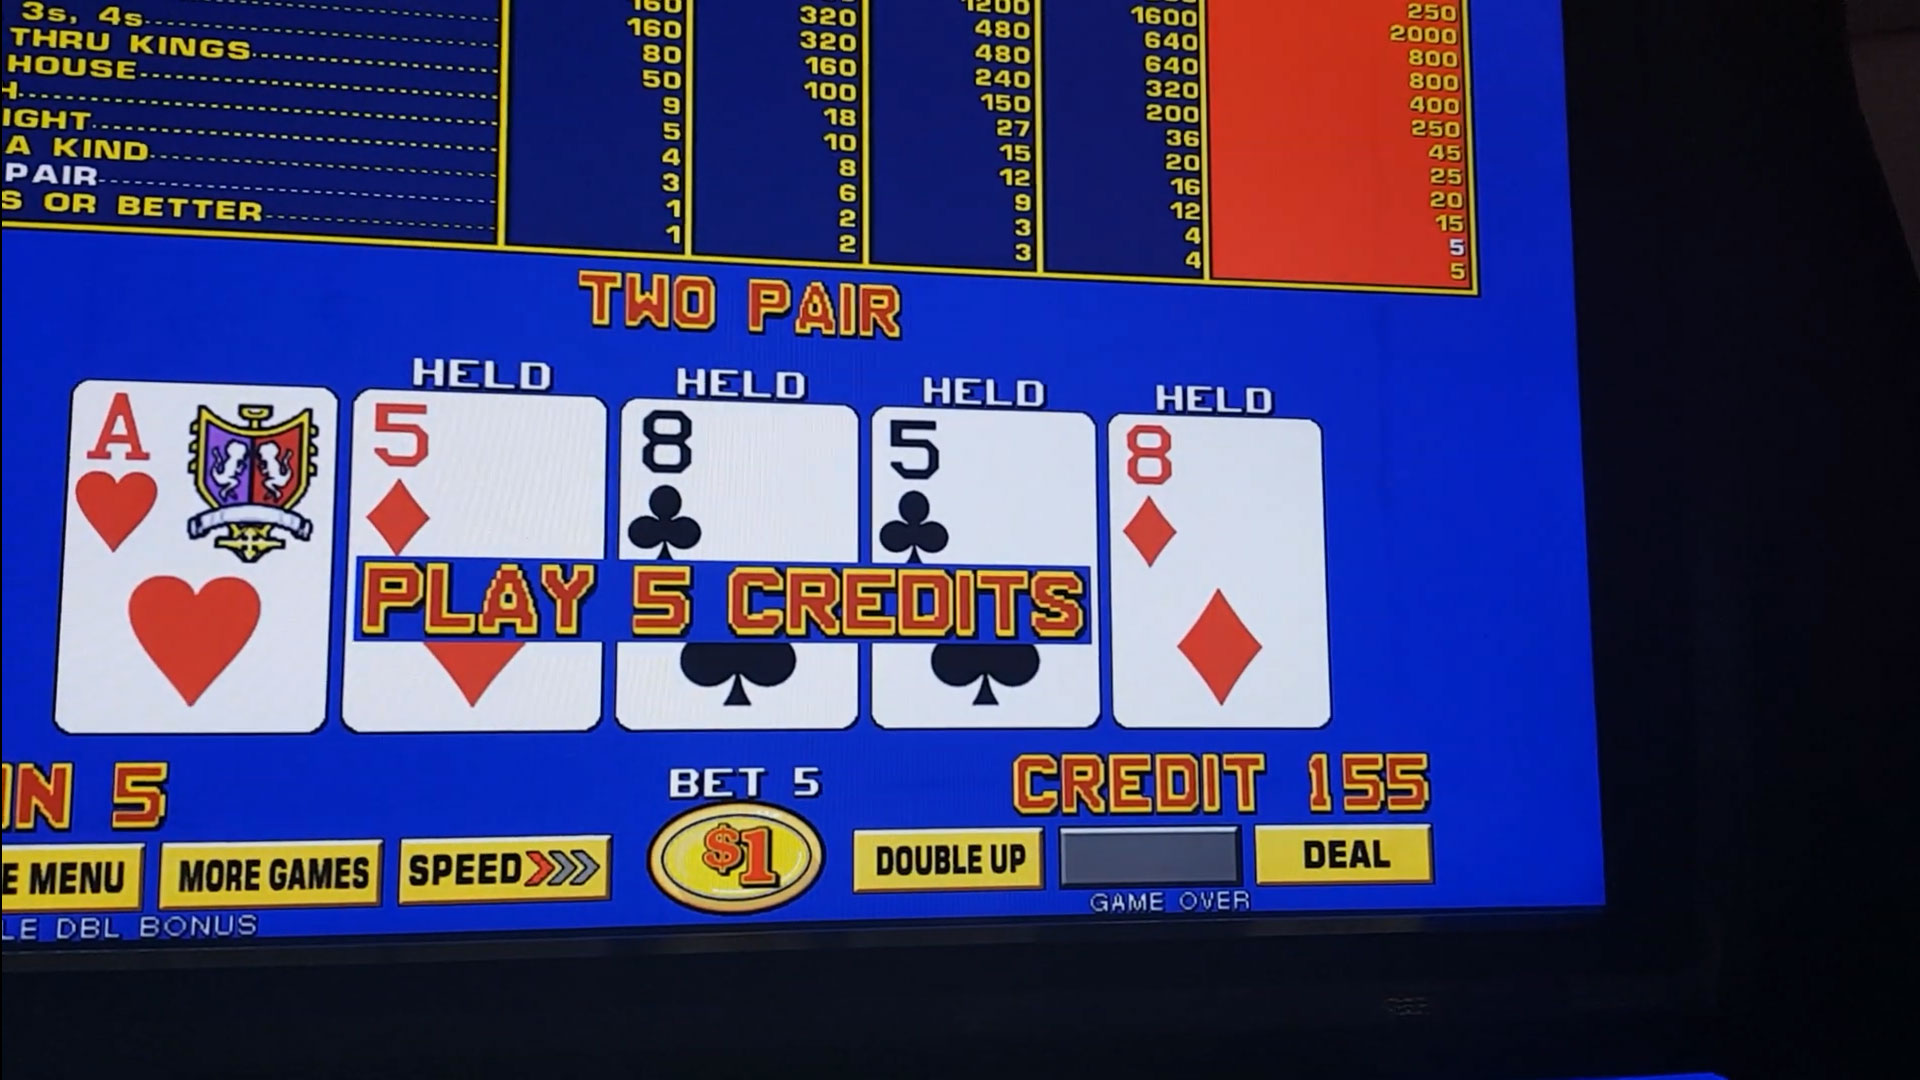C5: (876, 417, 1092, 560)
C8: (622, 411, 855, 555)
D5: (356, 402, 599, 551)
D8: (1116, 421, 1319, 578)
HA: (76, 386, 334, 553)
